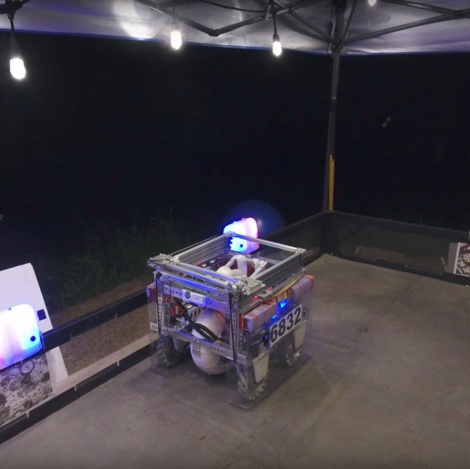robot: (143, 229, 315, 405)
